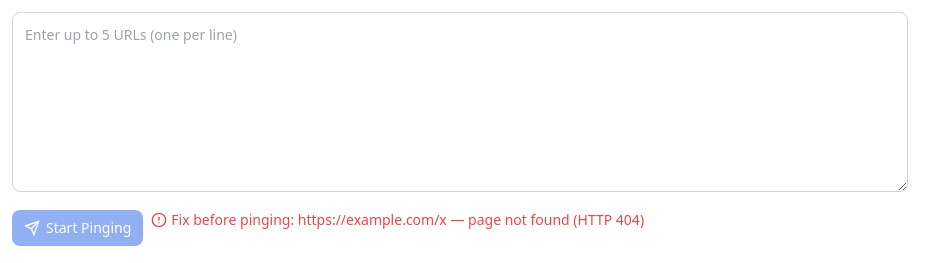
Scenario: URLInput Component › a format error keeps priority over the address check's message
The image size is (925, 263).
Expected: the text "Fix before pinging: https://example.com/x — page not found (HTTP 404)" is shown, top-left (171, 210), bottom-right (644, 230)
Type "invalid-url" into the text box with placeholder "Enter up to 5 URLs (one per line)" at (460, 102), box top-left (12, 12), bottom-right (908, 192)
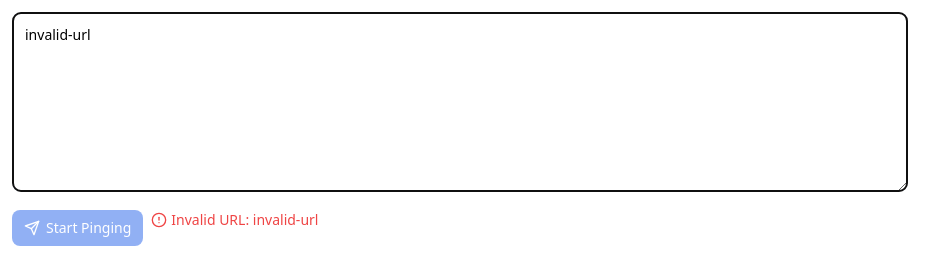
Result: the text "Invalid URL: invalid-url" is shown at top-left (171, 210), bottom-right (318, 230)
Result: the text "Fix before pinging: https://example.com/x — page not found (HTTP 404)" is gone
